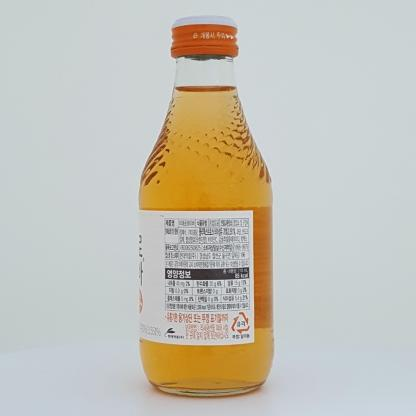--------210ML: (138, 15, 273, 398)
